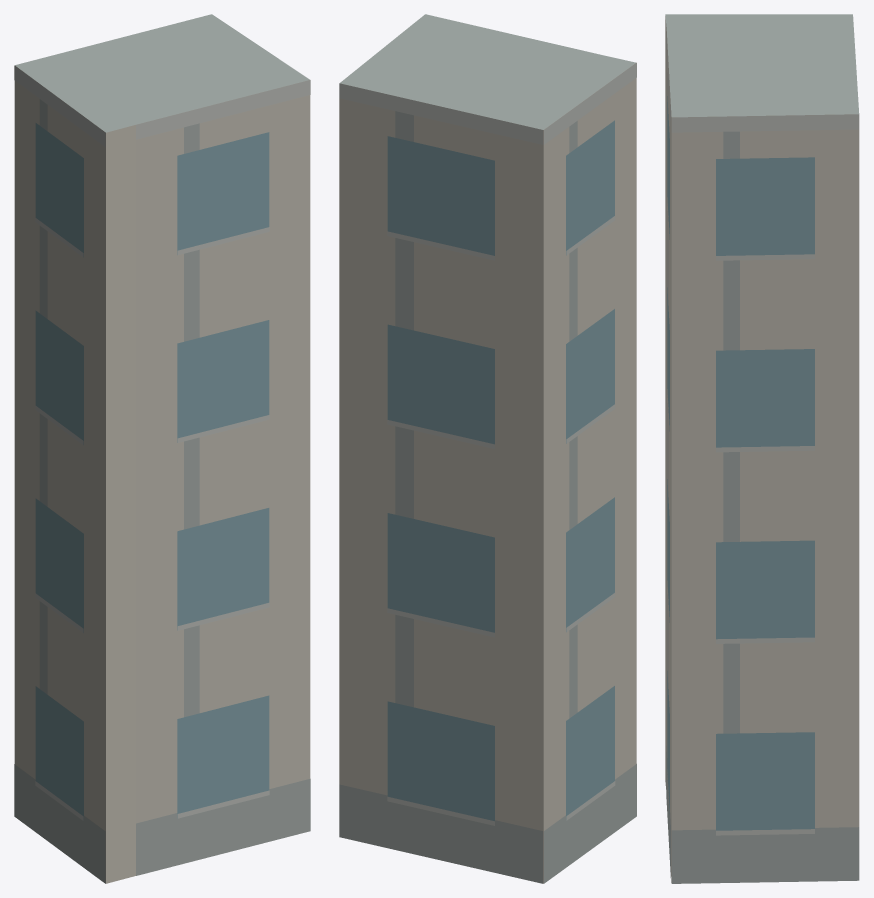
Rendered from survey-upis-32623369.glb.
The picture shows the model from 3 angles, left to right: view 1: azimuth 30°, elevation 25°; view 2: azimuth 150°, elevation 25°; view 3: azimuth 270°, elevation 25°; orthographic projection. The views are drawn at different scales.
Parts seen in each view (by area): view 1: survey-upis-32623369.tmp; view 2: survey-upis-32623369.tmp; view 3: survey-upis-32623369.tmp.
Part boxes in pixels (x1=…): survey-upis-32623369.tmp: x1=14, y1=14, x2=310, y2=883; survey-upis-32623369.tmp: x1=339, y1=14, x2=636, y2=883; survey-upis-32623369.tmp: x1=665, y1=14, x2=859, y2=883.
Size of the model in its own units: 3.54 by 12.2 by 2.8.
